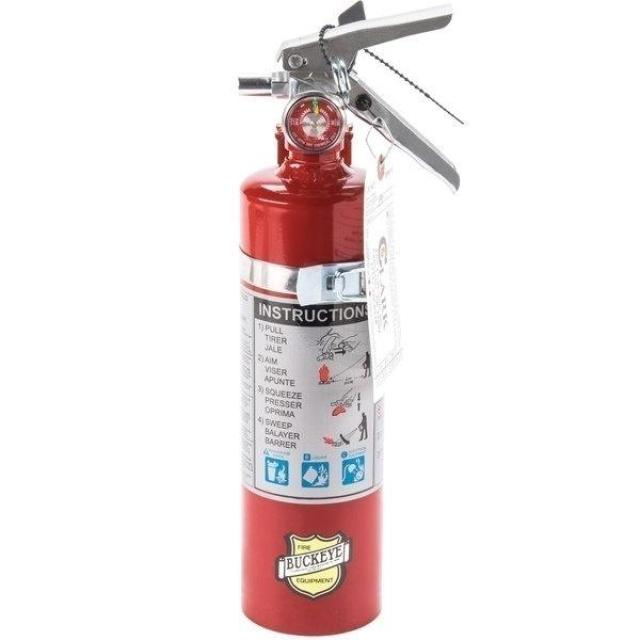fire_extinguisher: (222, 0, 471, 638)
